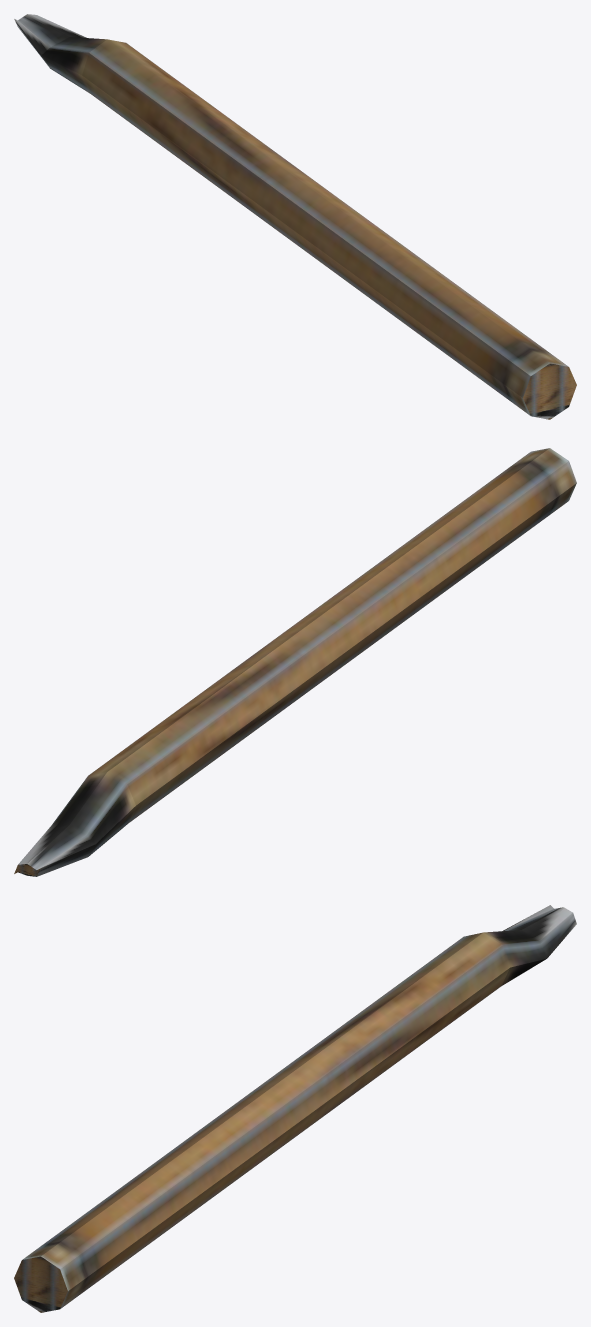
Rendered from penreed.glb.
3 renders of one model, top to bottom at view 1: azimuth 30°, elevation 25°; view 2: azimuth 150°, elevation 25°; view 3: azimuth 330°, elevation 25°, orthographic.
Parts seen in each view (by area): view 1: Cylinder; view 2: Cylinder; view 3: Cylinder.
Part boxes in pixels (left/top/right/bottom): Cylinder: left=14, top=14, right=576, bottom=419; Cylinder: left=14, top=448, right=576, bottom=876; Cylinder: left=14, top=905, right=576, bottom=1312.
Bounding box in the file's own units: 0.1193 × 0.1193 × 2.
1 material, 1 textured.
